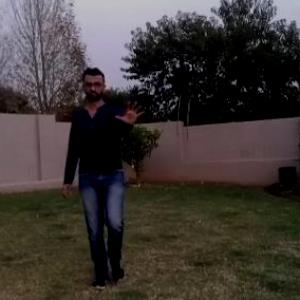follow_hand: (114, 95, 148, 130)
